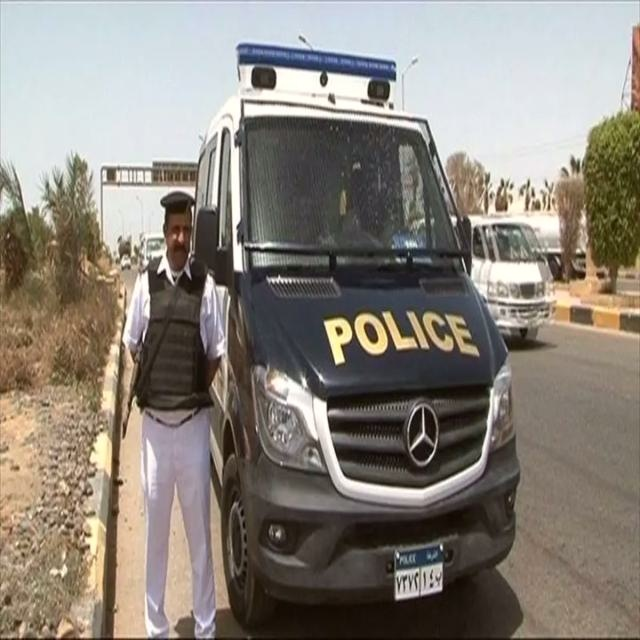person: (121, 190, 226, 639)
police-car: (190, 37, 521, 629)
